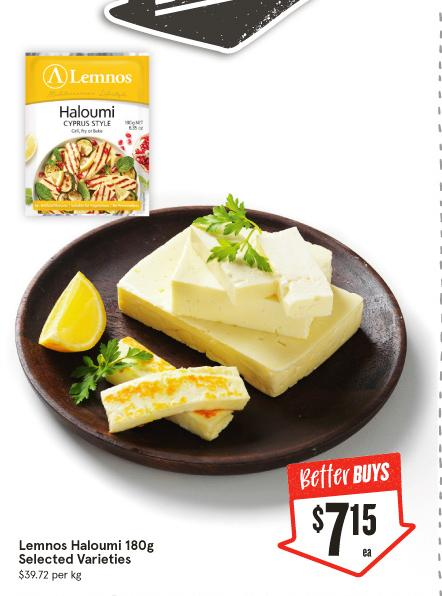description_block: (9, 527, 166, 568)
price_main: (304, 495, 397, 574)
product_image_block: (14, 43, 427, 468), (3, 34, 162, 225)
unit_price_block: (13, 562, 97, 593)
